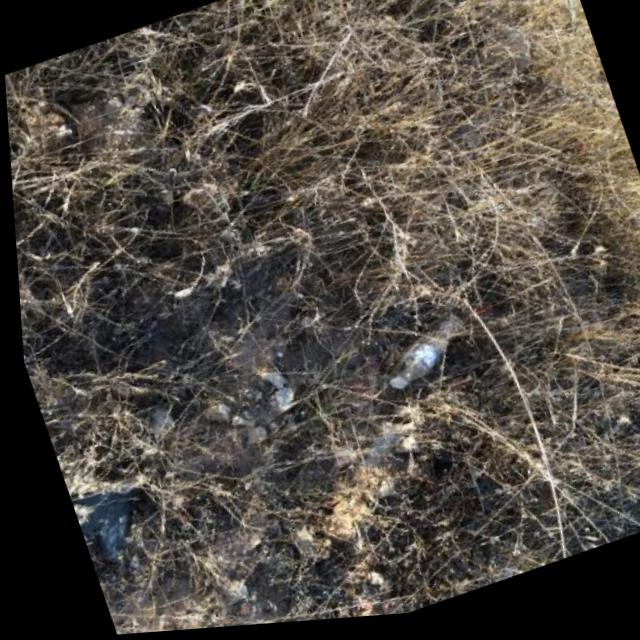plastic: (374, 308, 479, 392)
